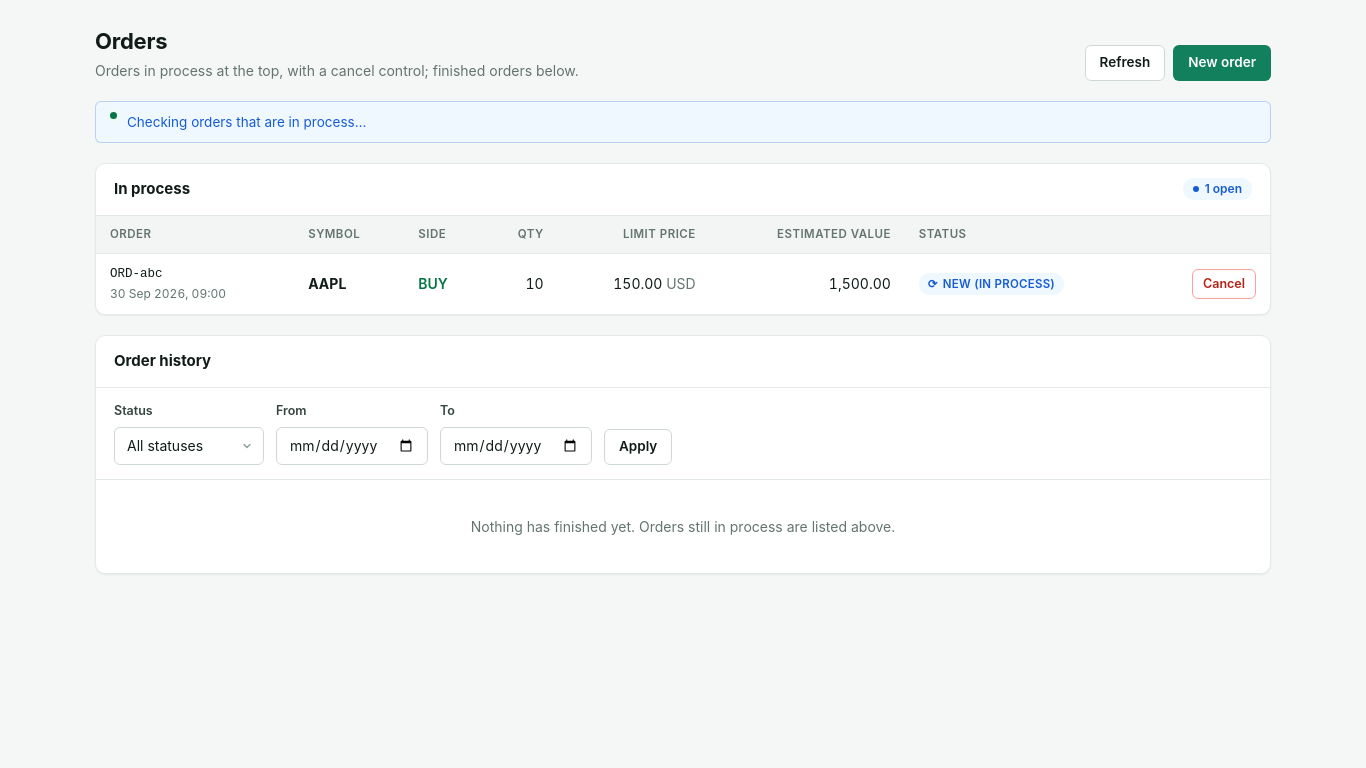
Test: OrdersComponent › open orders and cancellation (LEAP-018) › cancelling an order that has just filled shows the ORD-409 sentence
Click the button "Cancel".
click(1224, 284)  # box [1192,269,1256,299]
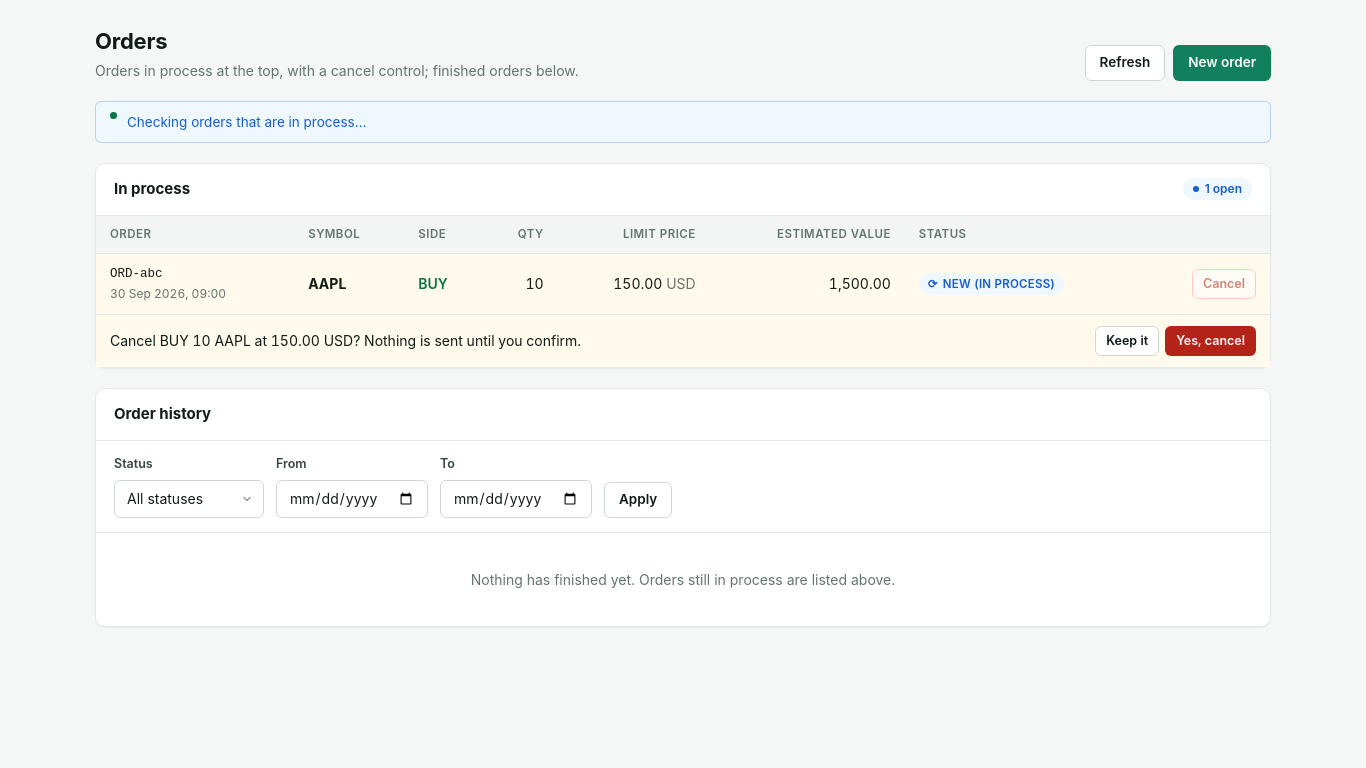
Click the button "Yes, cancel".
click(1211, 341)  # box [1165,326,1256,356]
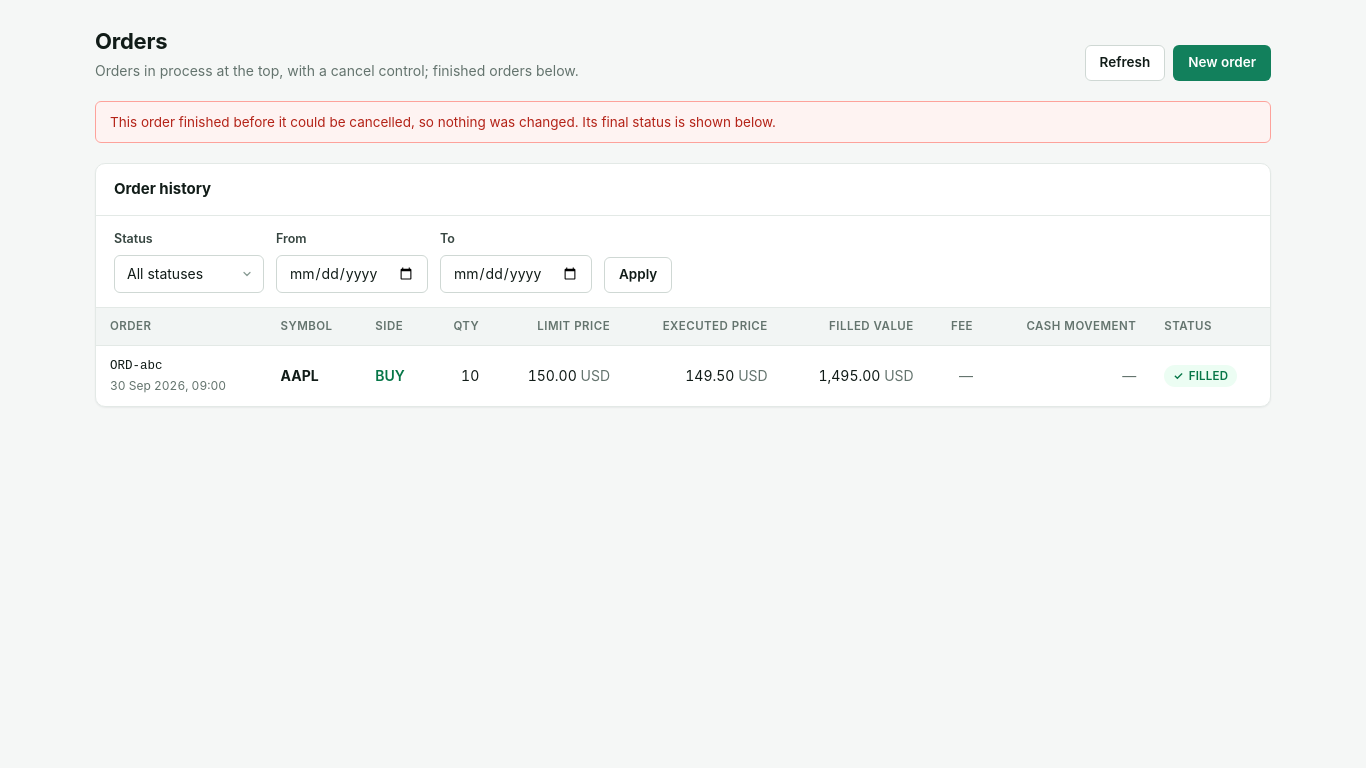
Check: the text "This order finished before it could be cancelled, so nothing was changed. Its final status is shown below." is shown, box [110,114,776,130]
